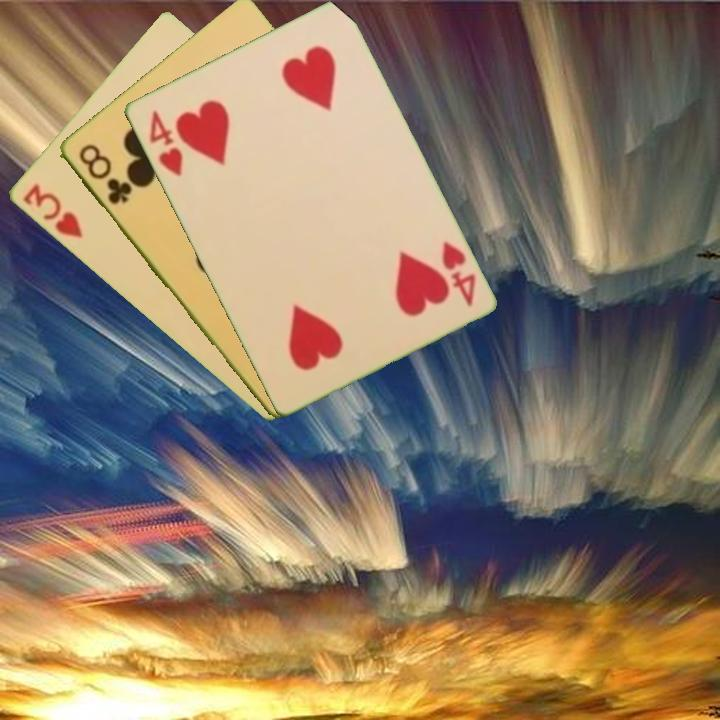3h: (18, 180, 85, 242)
4h: (145, 106, 186, 179), (437, 237, 478, 310)
8c: (74, 140, 135, 208)
